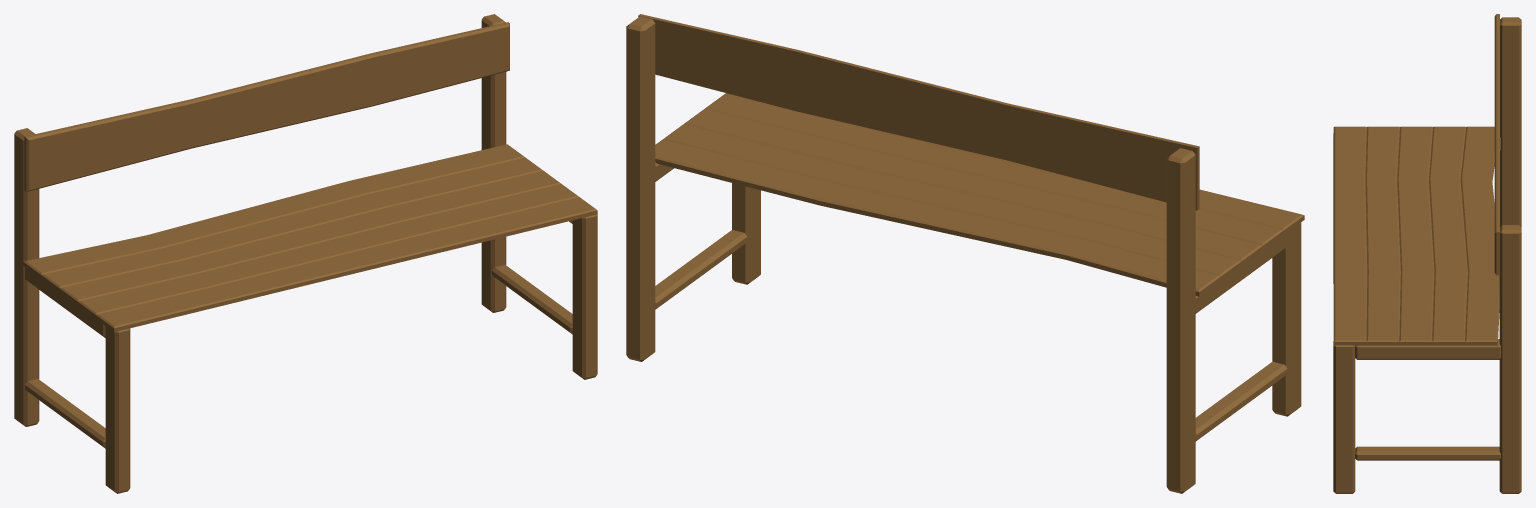
Rendered from bench_d.gltf.
3 views of the same model, side by side, from view 1: azimuth 30°, elevation 25°; view 2: azimuth 150°, elevation 25°; view 3: azimuth 270°, elevation 25° (orthographic). The views are drawn at different scales.
Parts seen in each view (by area): view 1: bench_d001; view 2: bench_d001; view 3: bench_d001.
Boxes of the visible parts, x1=… form: bench_d001: x1=14, y1=14, x2=597, y2=493; bench_d001: x1=626, y1=14, x2=1304, y2=493; bench_d001: x1=1333, y1=14, x2=1521, y2=493.
Size of the model in its own units: 1.38 by 0.7921 by 0.5083.
1 material, 1 textured.
